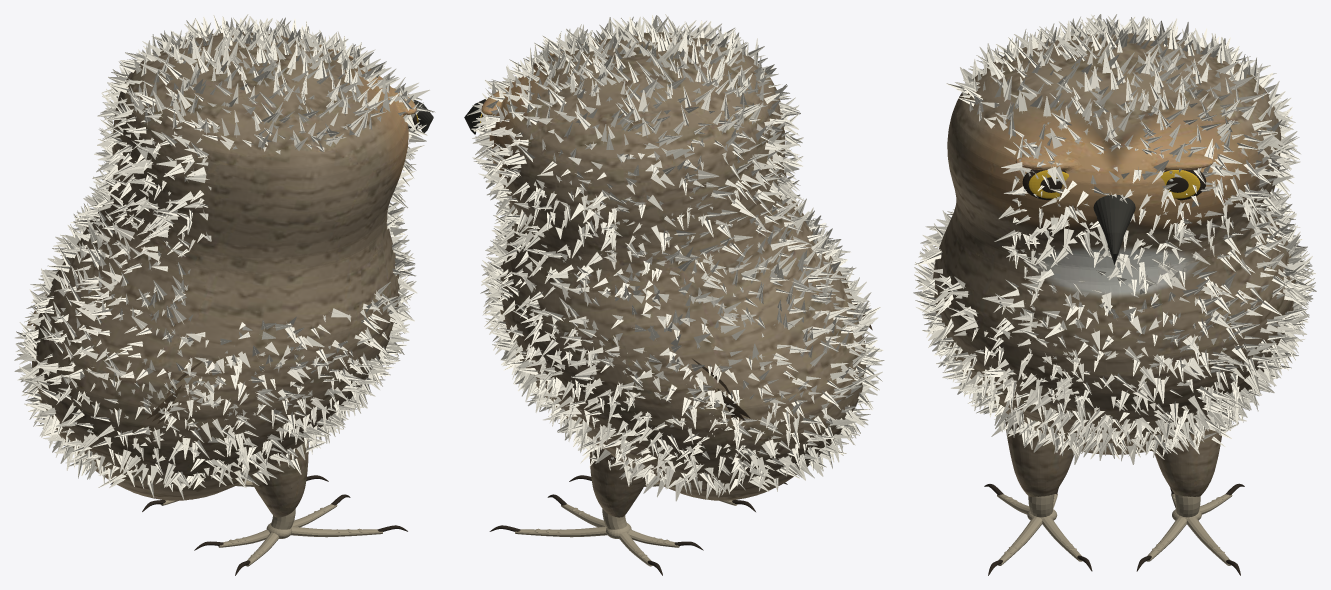
The model's file is v26_sparse_MASK_groom_UNAPPROVED.glb.
3 renders of one model, left to right at view 1: azimuth 30°, elevation 25°; view 2: azimuth 150°, elevation 25°; view 3: azimuth 270°, elevation 25°, orthographic. The views are drawn at different scales.
Visible parts, largest first — view 1: Continuous anatomical skin | owl, down_groom_MASK_5000, Articulated bird toe 1; view 2: Continuous anatomical skin | owl, down_groom_MASK_5000, Articulated bird toe 1.001; view 3: Continuous anatomical skin | owl, down_groom_MASK_5000, Closed descending upper hook and seated cere, Flush golden owl iris.001, Articulated bird toe 1, Articulated bird toe 1.001.
Part boxes in pixels (bbox=[...]): Continuous anatomical skin | owl: bbox=[32, 32, 416, 517]; down_groom_MASK_5000: bbox=[14, 14, 435, 500]; Articulated bird toe 1: bbox=[291, 526, 382, 537]; Continuous anatomical skin | owl: bbox=[481, 32, 866, 517]; down_groom_MASK_5000: bbox=[467, 14, 884, 501]; Articulated bird toe 1.001: bbox=[515, 526, 607, 537]; Continuous anatomical skin | owl: bbox=[933, 33, 1295, 496]; down_groom_MASK_5000: bbox=[913, 14, 1316, 464]; Closed descending upper hook and seated cere: bbox=[1093, 195, 1135, 264]; Flush golden owl iris.001: bbox=[1160, 170, 1200, 198]; Articulated bird toe 1: bbox=[998, 517, 1042, 565]; Articulated bird toe 1.001: bbox=[1186, 517, 1231, 565].
Bounding box in the file's own units: 0.3304 × 0.3738 × 0.2788.
Materials: 11 (11 with a texture image).
